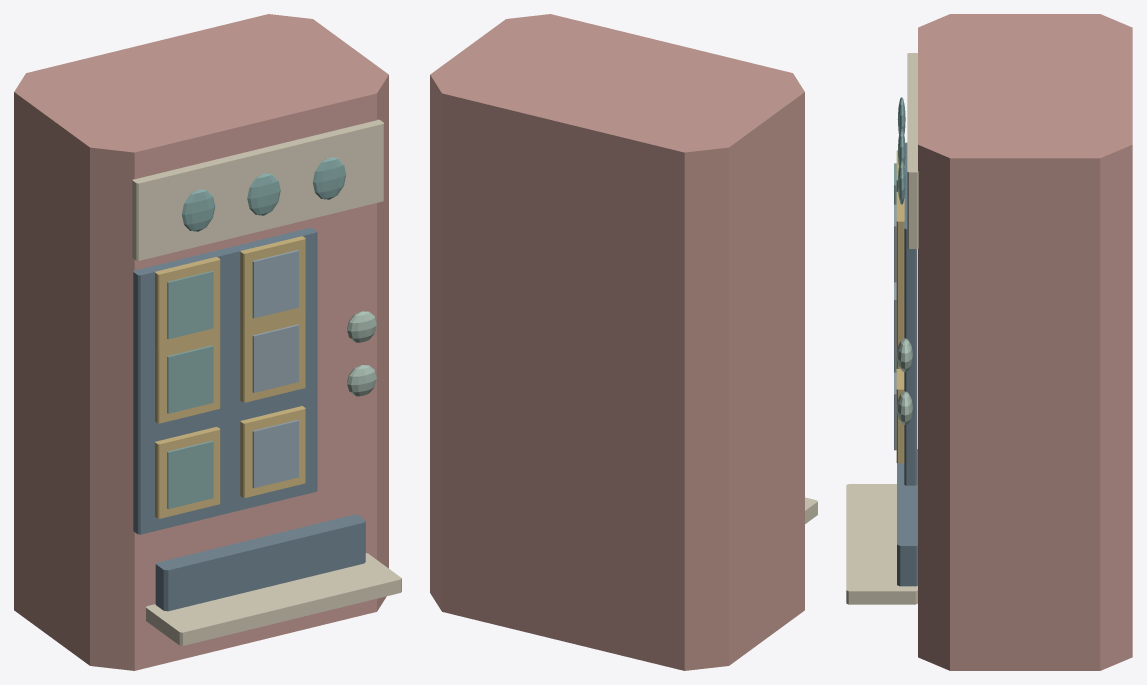
The model's file is vending.glb.
3 renders of one model, left to right at view 1: azimuth 30°, elevation 25°; view 2: azimuth 150°, elevation 25°; view 3: azimuth 270°, elevation 25°, orthographic.
Parts seen in each view (by area): view 1: vending; view 2: vending; view 3: vending.
Boxes of the visible parts, x1,y1,x2,y2 form: vending: (14, 14, 401, 670); vending: (430, 14, 817, 670); vending: (846, 14, 1132, 670).
Size of the model in its own units: 1.05 by 1.74 by 0.88.
